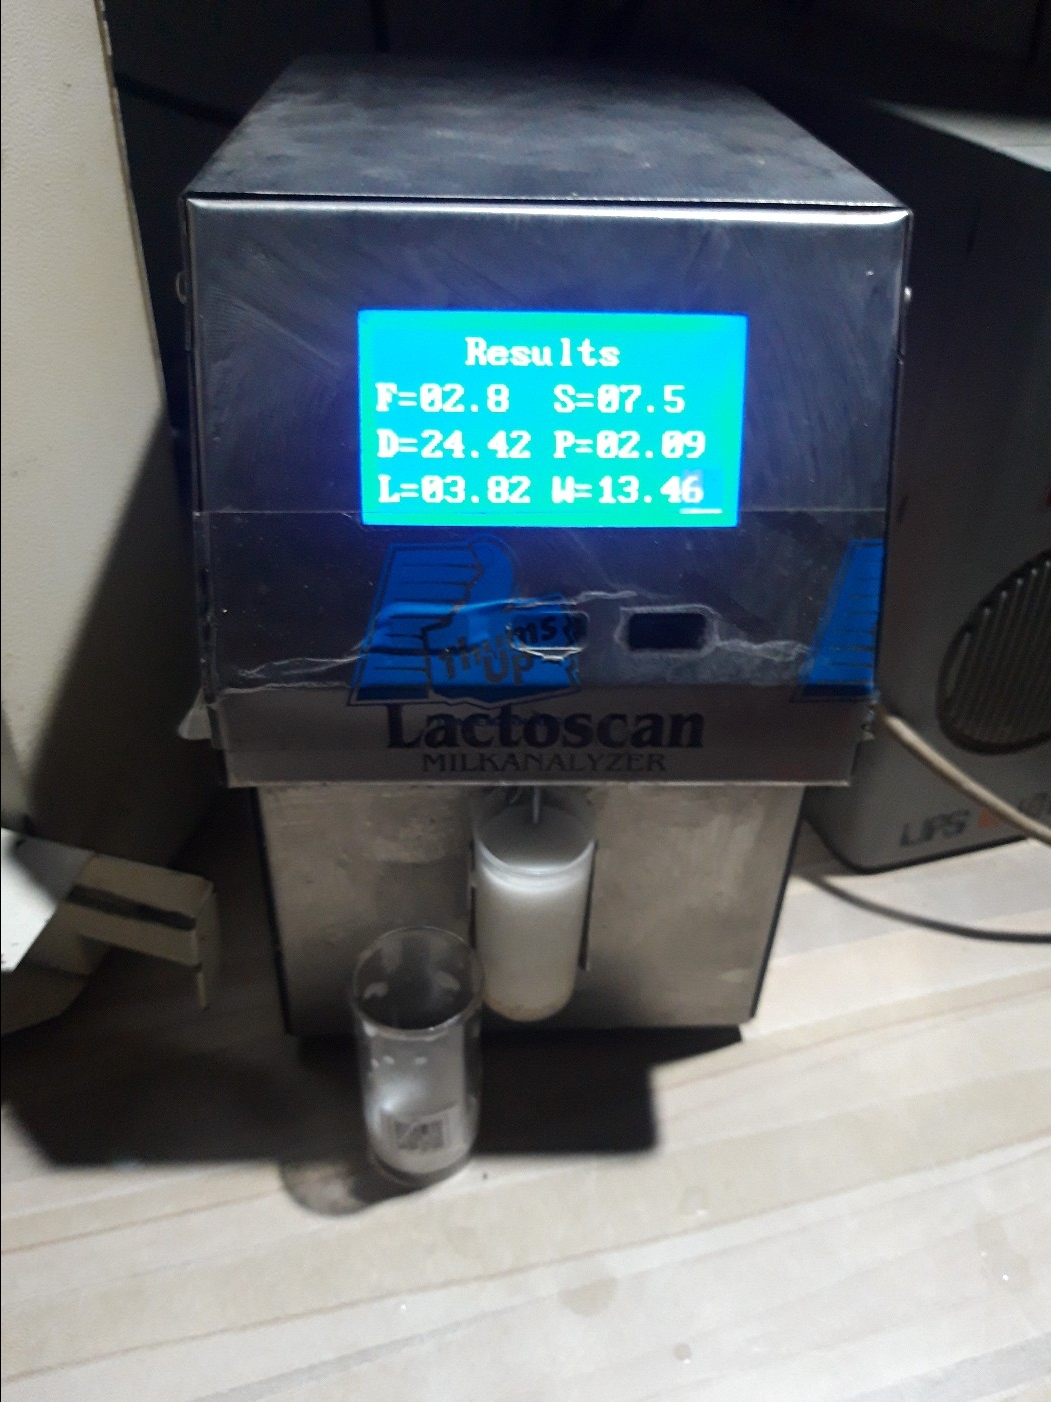lcd: (350, 296, 763, 537)
qr: (386, 1115, 484, 1181)
